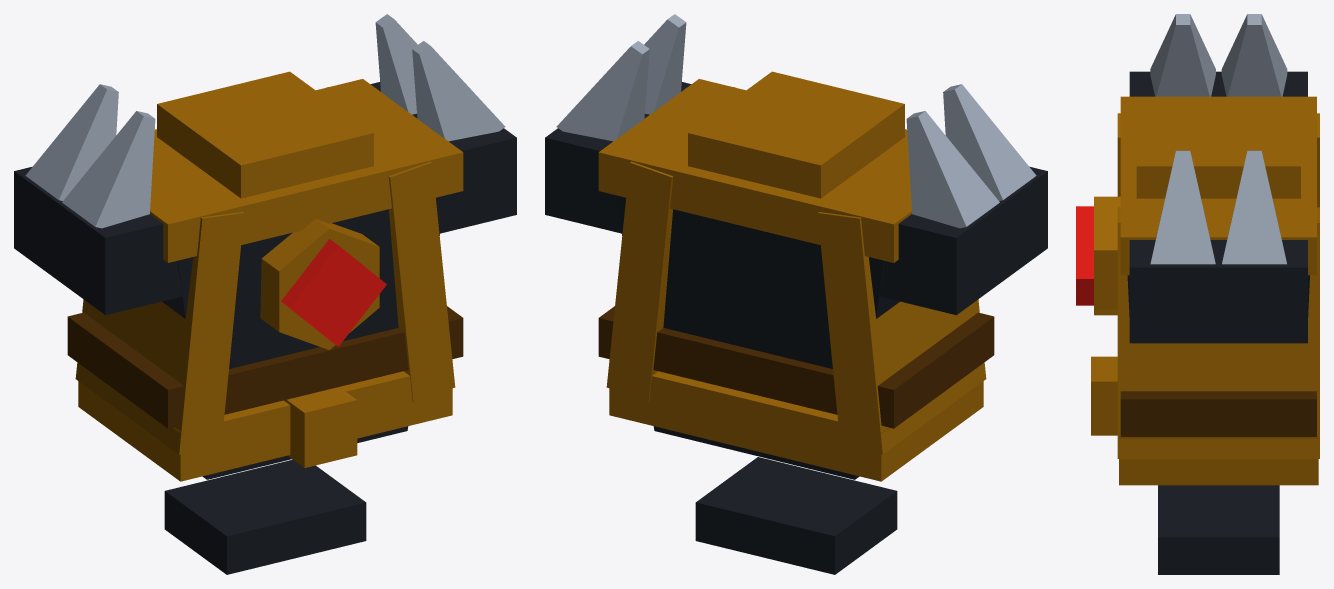
The model's file is CorazaTitan_low.fbx.
The picture shows the model from 3 angles, left to right: view 1: azimuth 30°, elevation 25°; view 2: azimuth 150°, elevation 25°; view 3: azimuth 270°, elevation 25°; orthographic projection. The views are drawn at different scales.
Visible parts, largest first — view 1: CorazaTitan_low; view 2: CorazaTitan_low; view 3: CorazaTitan_low.
Part boxes in pixels (x1,y1,x2,y2): CorazaTitan_low: (14, 14, 516, 574); CorazaTitan_low: (545, 14, 1047, 574); CorazaTitan_low: (1076, 14, 1319, 574).
Bounding box in the file's own units: 78 × 85.17 × 41.
